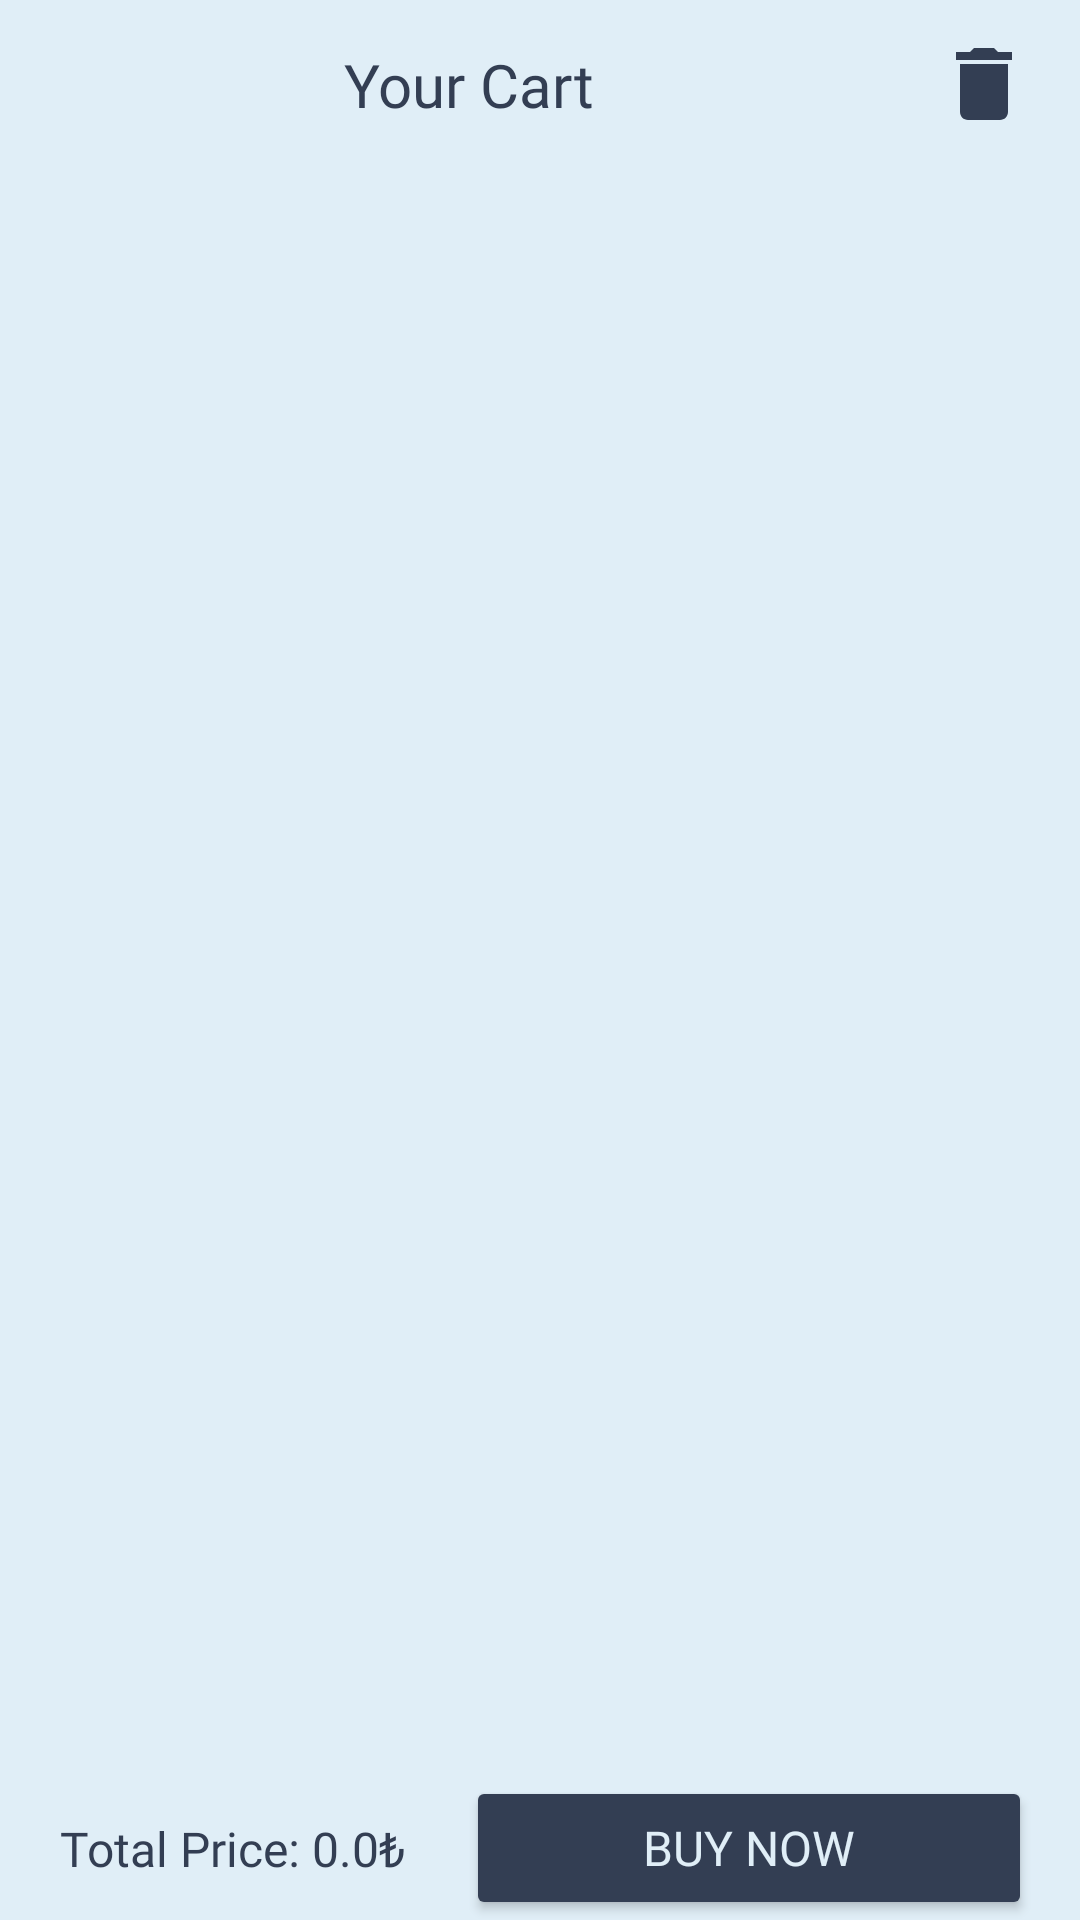

Named icons in this screenshot (1080px×1920px) and their centers, [x,y]:
delete: [984,84]
